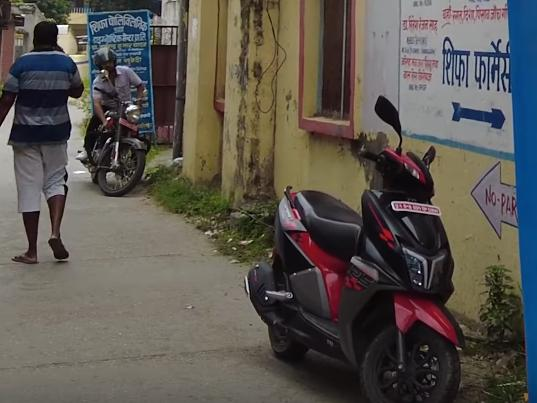bike: (81, 86, 149, 201)
scooter: (235, 96, 469, 403)
